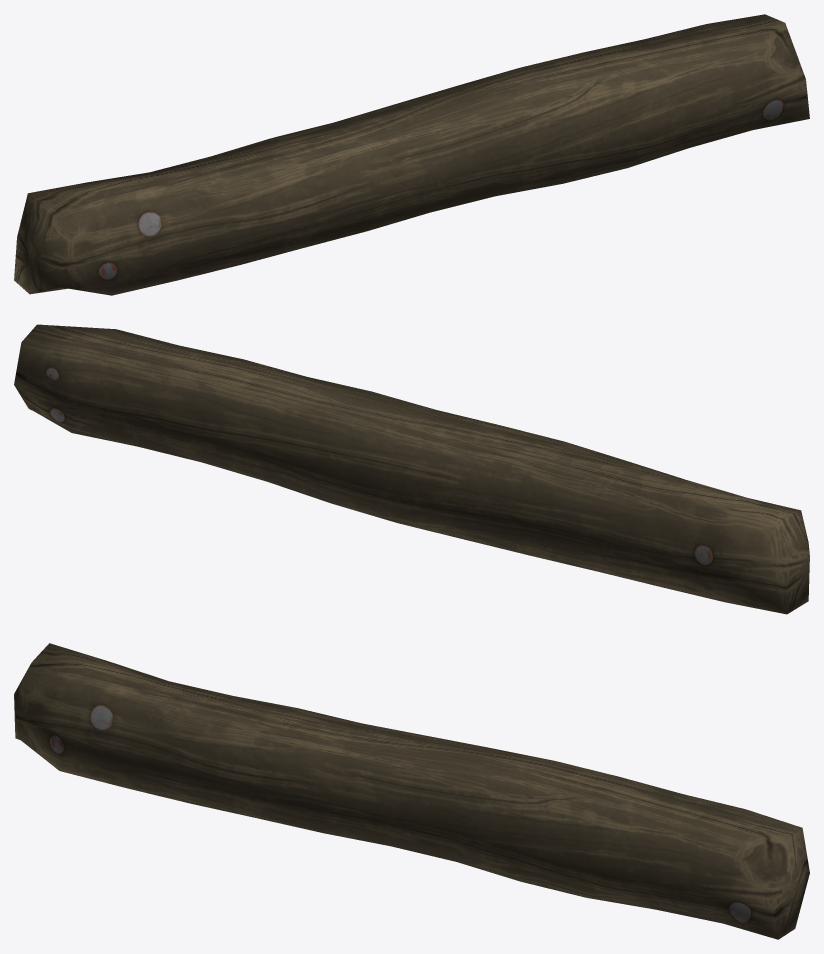
File: wood_big_A.fbx
The picture shows the model from 3 angles, top to bottom: view 1: azimuth 30°, elevation 25°; view 2: azimuth 150°, elevation 25°; view 3: azimuth 330°, elevation 25°; orthographic projection. The views are drawn at different scales.
Visible parts, largest first — view 1: wood_big_A; view 2: wood_big_A; view 3: wood_big_A.
Part boxes in pixels (bbox=[...]): wood_big_A: bbox=[14, 14, 809, 295]; wood_big_A: bbox=[14, 324, 809, 614]; wood_big_A: bbox=[14, 643, 809, 939].
Size of what is drawn, in the model's own units: 414 by 52.02 by 42.77.
1 material, 1 textured.
